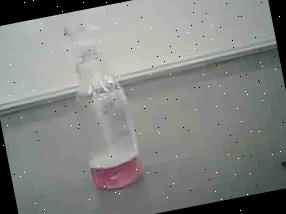hazard: (48, 9, 156, 202)
